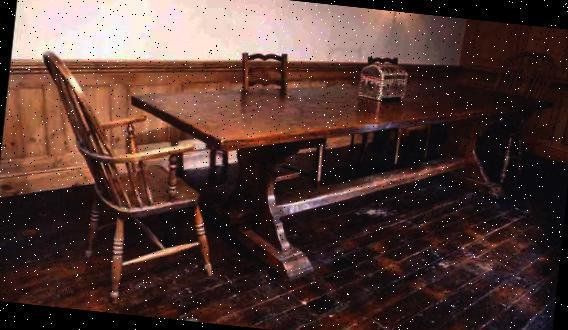Mesa: (108, 50, 555, 309)
Silla: (15, 49, 235, 312), (224, 43, 333, 217), (439, 41, 561, 187)
